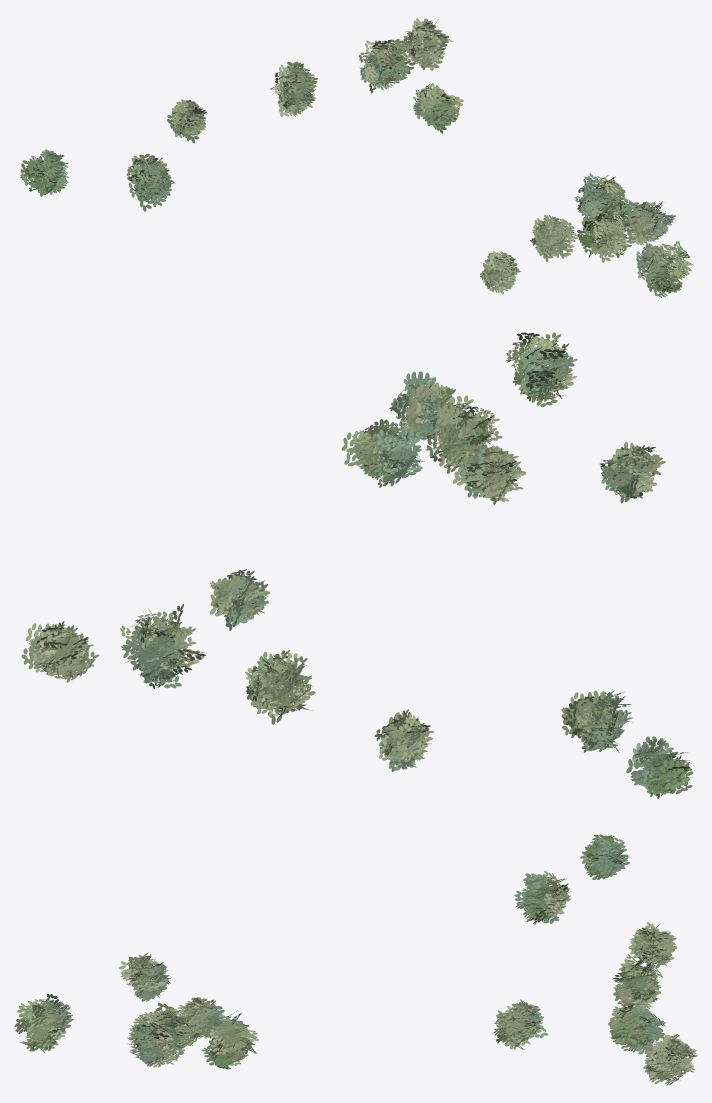
Rendered from campus-tree-0_-2-far.glb.
3 views of the same model, one above another, from view 1: azimuth 30°, elevation 25°; view 2: azimuth 150°, elevation 25°; view 3: azimuth 270°, elevation 25° (orthographic). The views are drawn at different scales.
Visible parts, largest first — view 1: Campus leaf canopy; view 2: Campus leaf canopy; view 3: Campus leaf canopy.
Boxes of the visible parts, x1,y1,x2,y2 form: Campus leaf canopy: (20, 18, 693, 297); Campus leaf canopy: (21, 332, 693, 798); Campus leaf canopy: (14, 834, 697, 1085).
Bounding box in the file's own units: 53.32 × 8.52 × 65.
Materials: 1 (1 with a texture image).
